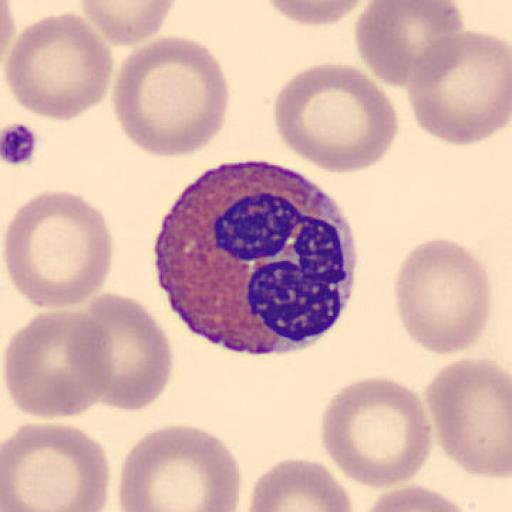RBC: (272, 62, 400, 176), (113, 35, 231, 158), (2, 190, 115, 310), (319, 374, 433, 491), (404, 28, 512, 148), (2, 310, 116, 420), (4, 11, 115, 123), (75, 291, 174, 414), (392, 237, 493, 357), (116, 421, 243, 512), (425, 356, 512, 479), (1, 420, 111, 512), (354, 0, 467, 89), (246, 455, 353, 512), (80, 0, 176, 45), (359, 484, 477, 512), (262, 0, 374, 28), (0, 0, 17, 68)
WBC: (152, 158, 360, 357)
